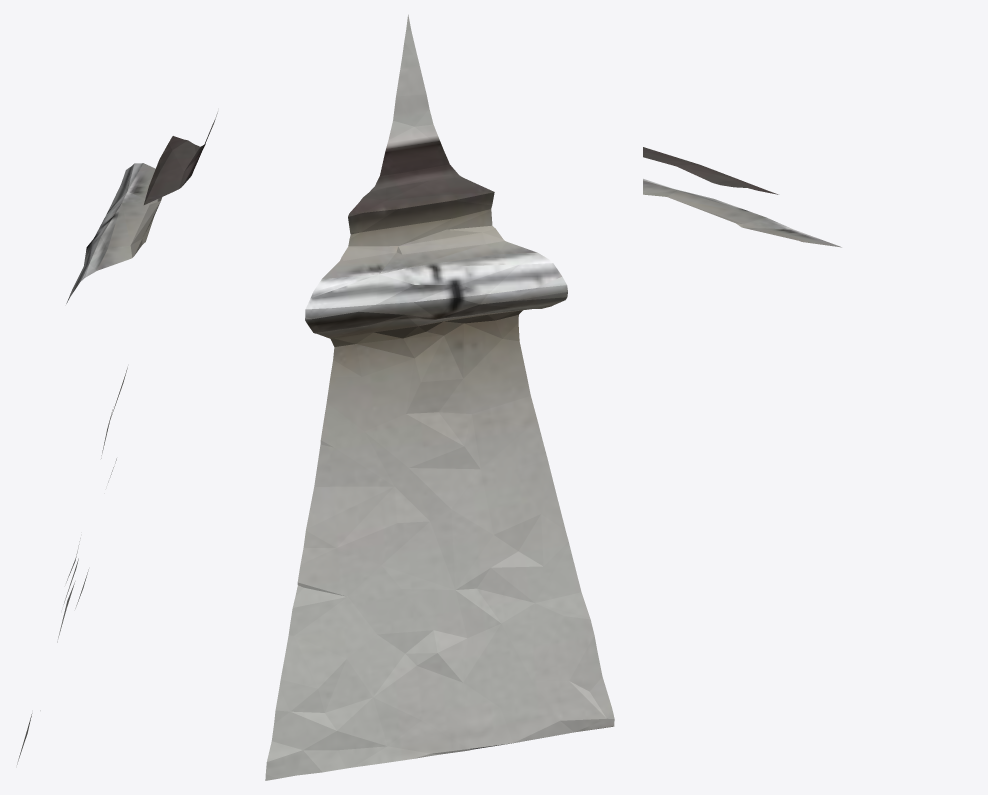
The picture shows the model from 3 angles, left to right: view 1: azimuth 30°, elevation 25°; view 2: azimuth 150°, elevation 25°; view 3: azimuth 270°, elevation 25°; orthographic projection. The views are drawn at different scales.
Size of the model in its own units: 0.2483 by 0.7614 by 0.2975.
Materials: 1 (1 with a texture image).
